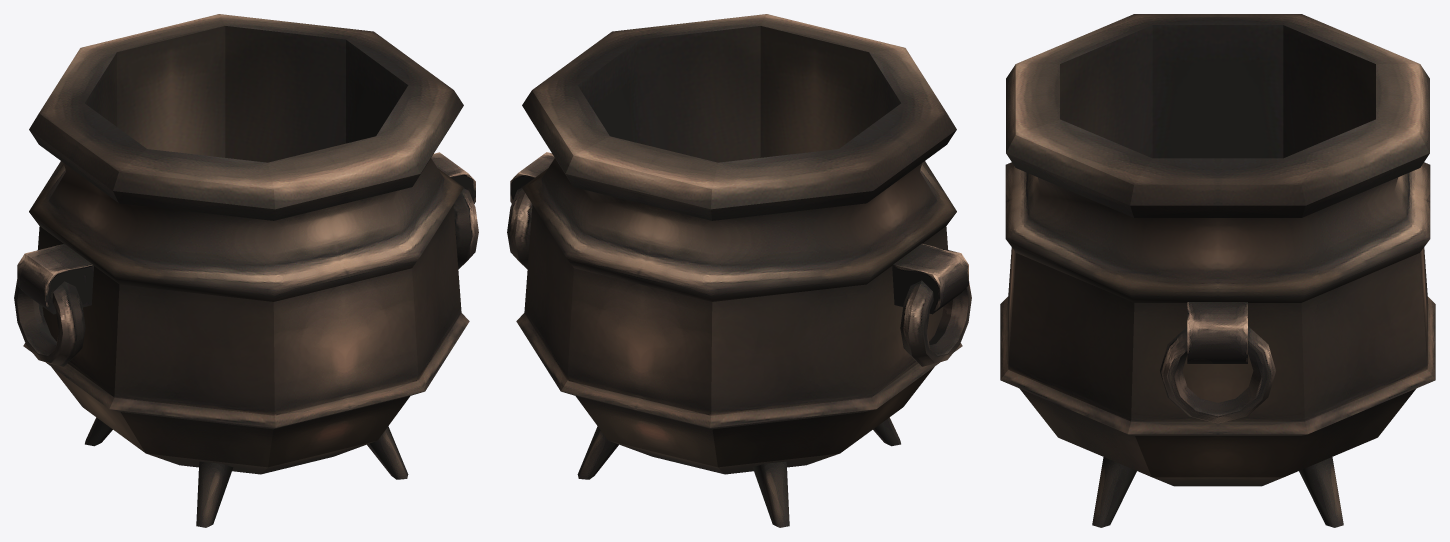
File: 37_pot.FBX
The picture shows the model from 3 angles, left to right: view 1: azimuth 30°, elevation 25°; view 2: azimuth 150°, elevation 25°; view 3: azimuth 270°, elevation 25°; orthographic projection. The views are drawn at different scales.
Parts seen in each view (by area): view 1: 37_pot; view 2: 37_pot; view 3: 37_pot.
Boxes of the visible parts, left/top/right/bottom form: 37_pot: left=14, top=14, right=478, bottom=527; 37_pot: left=507, top=14, right=971, bottom=527; 37_pot: left=1000, top=14, right=1435, bottom=527.
Size of the model in its own units: 48.94 by 39.72 by 41.03.
